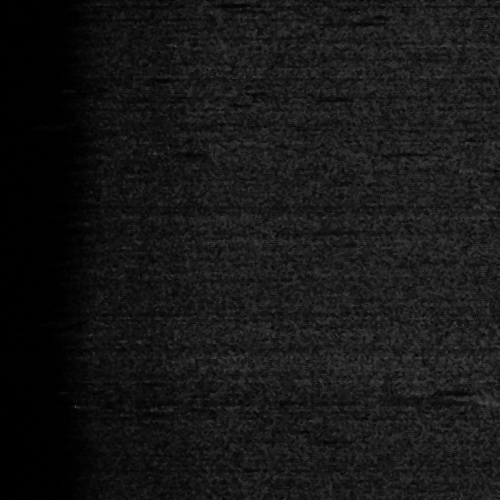object: (470, 201, 500, 206), (470, 394, 500, 399)
shadow: (486, 394, 500, 399), (491, 201, 500, 206)
